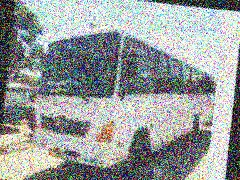bus: (25, 17, 220, 180)
